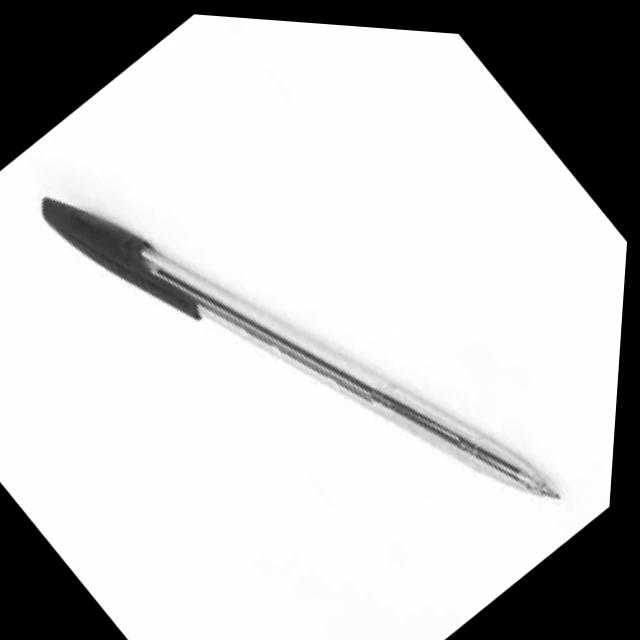pen: (2, 49, 595, 640)
